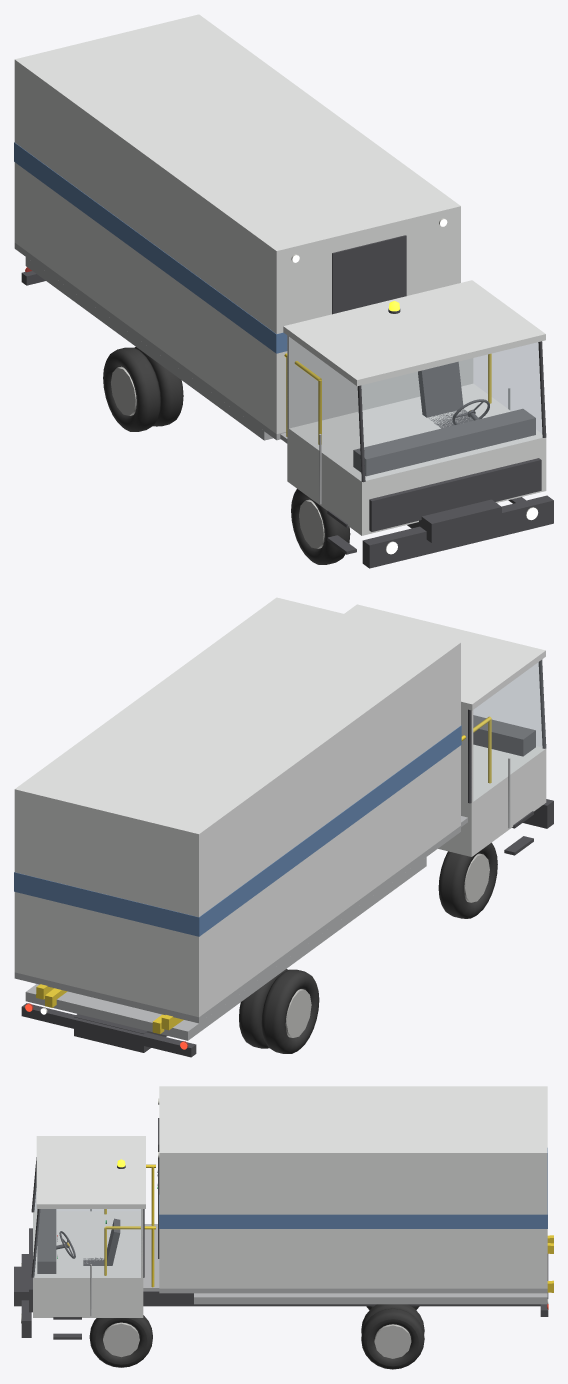
File: CateringTruck.glb
The picture shows the model from 3 angles, top to bottom: view 1: azimuth 30°, elevation 25°; view 2: azimuth 150°, elevation 25°; view 3: azimuth 270°, elevation 25°; orthographic projection. The views are drawn at different scales.
Parts seen in each view (by area): view 1: LiftBox, Body, Wheel_RR, Wheel_FR, Platform; view 2: LiftBox, Body, Wheel_RR, Wheel_FR; view 3: LiftBox, Body, Wheel_RL, Wheel_FL, Platform.
Part boxes in pixels (x1,y1,x2,y2): LiftBox: [14, 14, 460, 440]; Body: [21, 257, 553, 568]; Wheel_RR: [103, 347, 183, 431]; Wheel_FR: [291, 489, 350, 564]; Platform: [280, 353, 491, 444]; LiftBox: [14, 597, 461, 1023]; Body: [21, 604, 553, 1057]; Wheel_RR: [239, 969, 319, 1053]; Wheel_FR: [438, 842, 497, 918]; LiftBox: [158, 1086, 547, 1293]; Body: [14, 1136, 548, 1339]; Wheel_RL: [361, 1304, 424, 1369]; Wheel_FL: [89, 1315, 152, 1367]; Platform: [104, 1164, 159, 1291].
Size of what is drawn, in the model's own units: 2.59 by 3.83 by 8.55.
